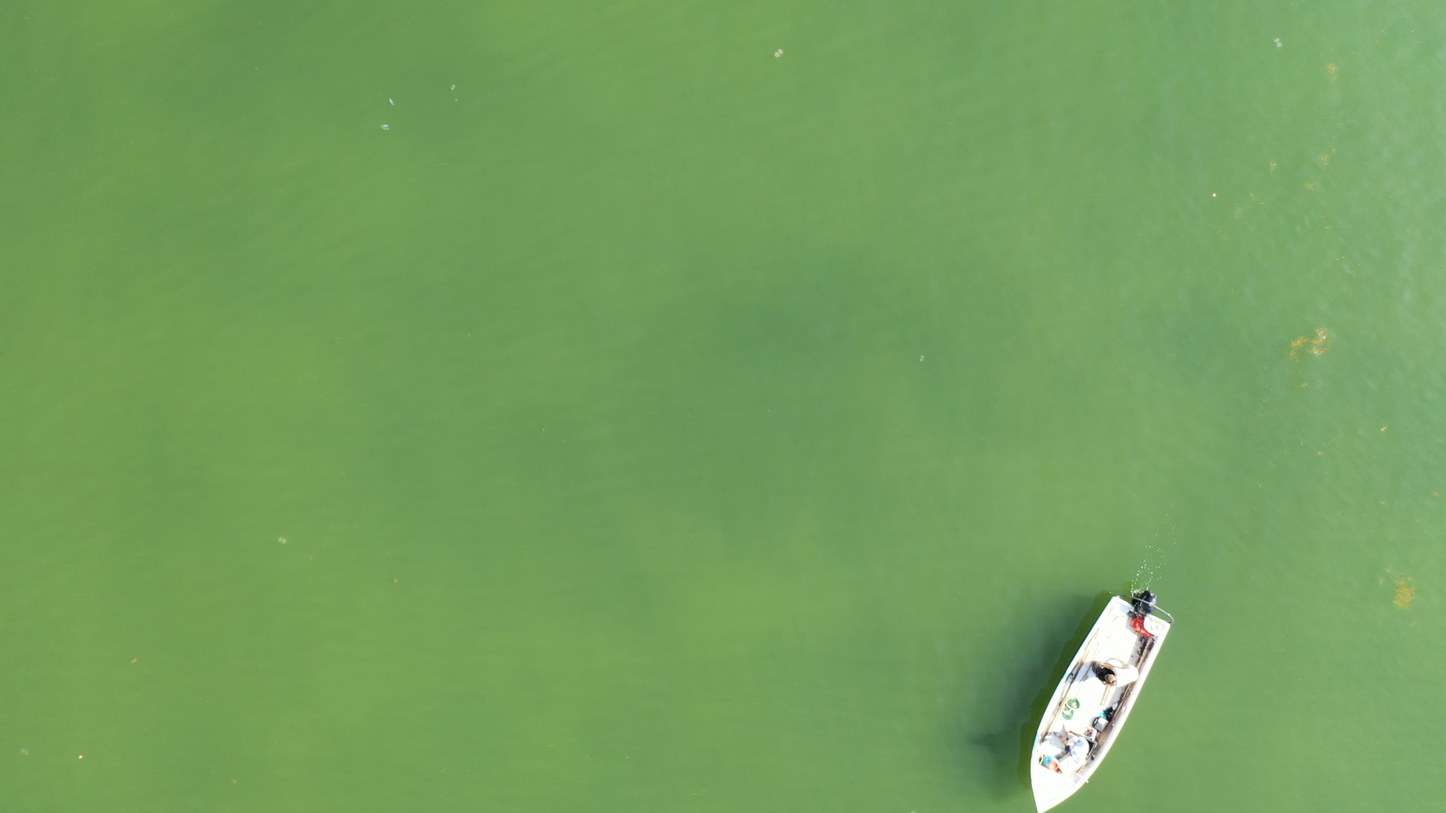meduse: (775, 49, 783, 59), (279, 536, 287, 545), (21, 748, 29, 757), (1274, 37, 1281, 47), (918, 355, 926, 362)
